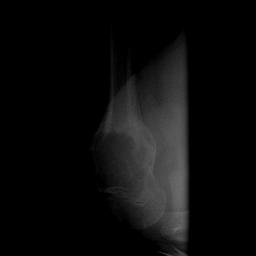cancer: (86, 119, 165, 228)
